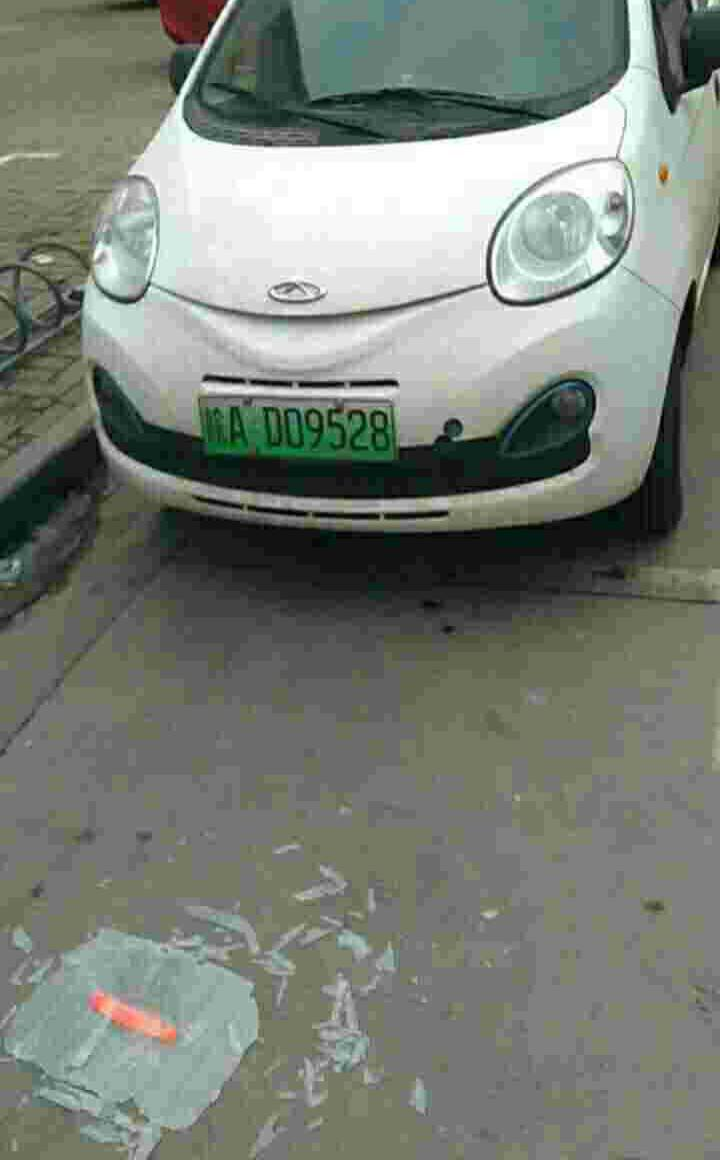car: (182, 398, 402, 462)
